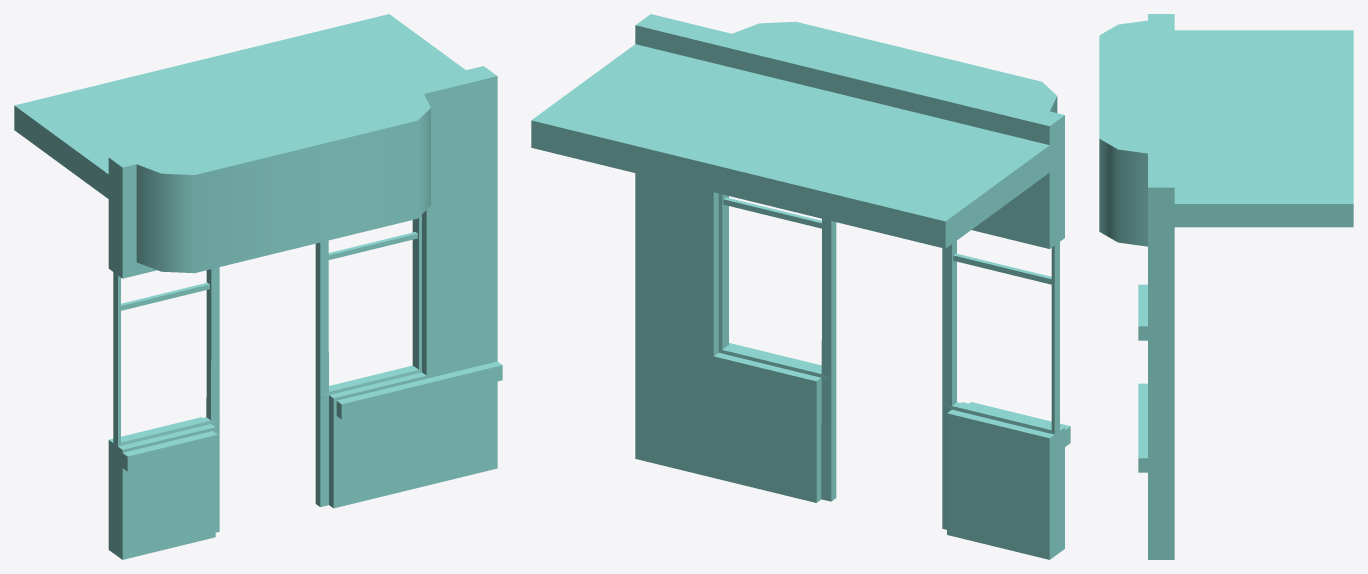
The model's file is DinerWallDoor_Collision.fbx.
3 renders of one model, left to right at view 1: azimuth 30°, elevation 25°; view 2: azimuth 150°, elevation 25°; view 3: azimuth 270°, elevation 25°, orthographic. The views are drawn at different scales.
Visible parts, largest first — view 1: DinerWallDoor_Collision; view 2: DinerWallDoor_Collision; view 3: DinerWallDoor_Collision.
Boxes of the visible parts, <box> form: DinerWallDoor_Collision: <box>14,14,502,559</box>; DinerWallDoor_Collision: <box>531,14,1070,559</box>; DinerWallDoor_Collision: <box>1099,14,1353,559</box>.
Bounding box in the file's own units: 3.52 × 3.52 × 2.18.
